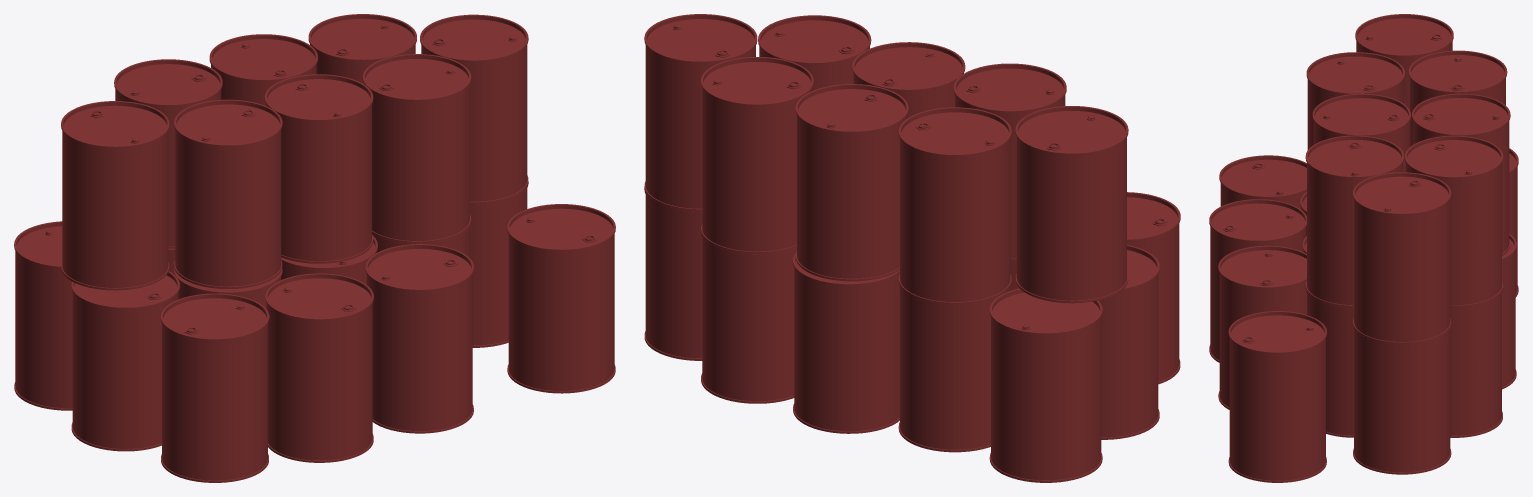
File: SM_BarrelPack02.fbx
3 renders of one model, left to right at view 1: azimuth 30°, elevation 25°; view 2: azimuth 150°, elevation 25°; view 3: azimuth 270°, elevation 25°, orthographic. The views are drawn at different scales.
Visible parts, largest first — view 1: BarrelPack02; view 2: BarrelPack02; view 3: BarrelPack02.
Boxes of the visible parts, x1,y1,x2,y2 form: BarrelPack02: [14, 14, 615, 482]; BarrelPack02: [644, 14, 1180, 482]; BarrelPack02: [1209, 14, 1518, 482].
Bounding box in the file's own units: 309 × 176 × 190.
